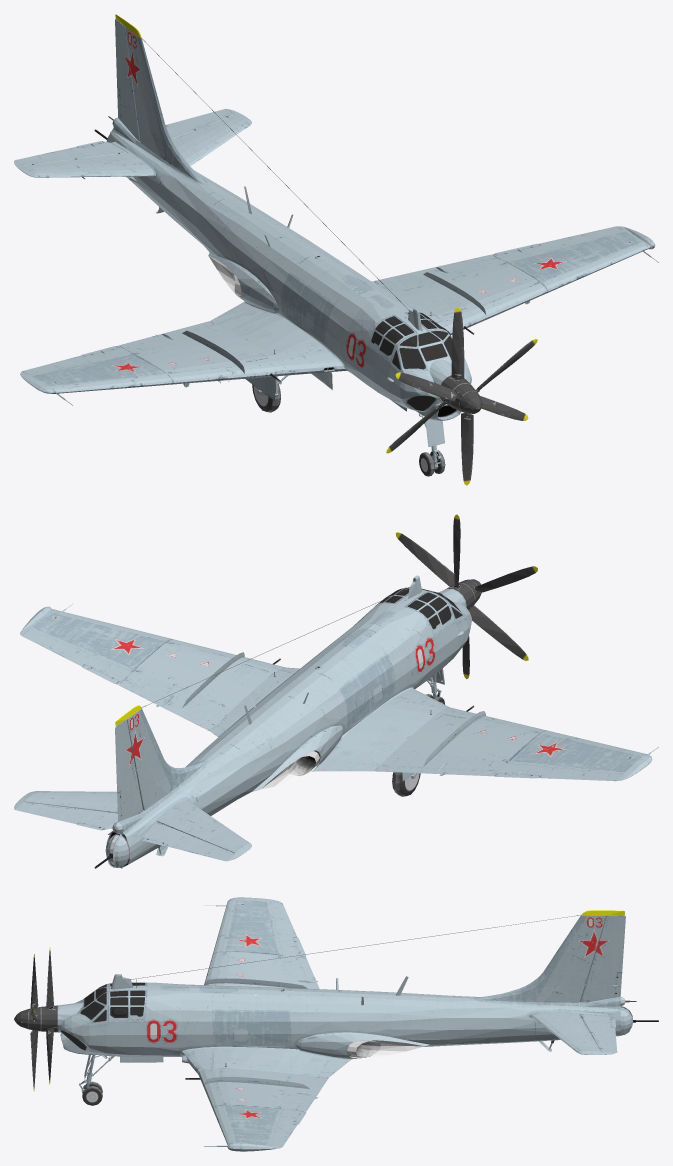
The picture shows the model from 3 angles, top to bottom: view 1: azimuth 30°, elevation 25°; view 2: azimuth 150°, elevation 25°; view 3: azimuth 270°, elevation 25°; orthographic projection. The views are drawn at different scales.
Visible parts, largest first — view 1: rab708_tupolev_tu_91_0.001_0; view 2: rab708_tupolev_tu_91_0.001_0; view 3: rab708_tupolev_tu_91_0.001_0.
Boxes of the visible parts, x1,y1,x2,y2 form: rab708_tupolev_tu_91_0.001_0: (14, 14, 658, 485); rab708_tupolev_tu_91_0.001_0: (14, 514, 658, 868); rab708_tupolev_tu_91_0.001_0: (14, 897, 658, 1151).
Bounding box in the file's own units: 1.09 × 0.3913 × 1.19.
3 materials, 3 textured.
